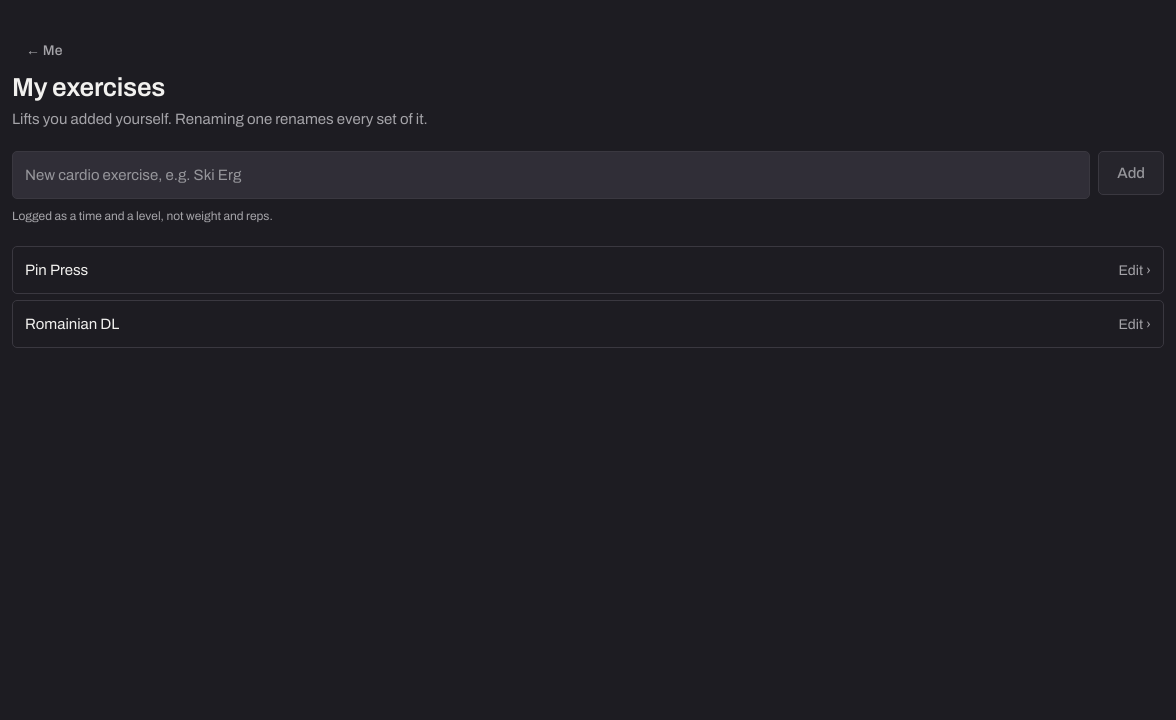
My exercises › refuses a name the library already has
Step 1. Click the button with aria-label "Edit Pin Press" → (57, 270), box [12,246,1164,294]
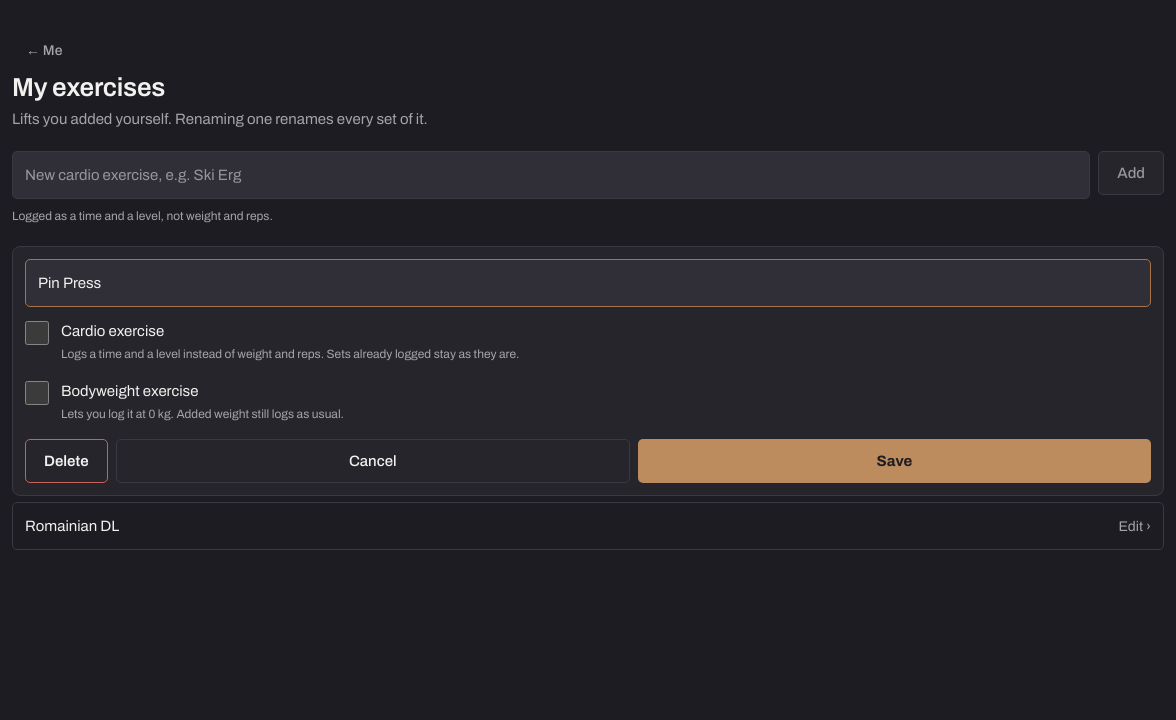
Step 2. Replace the text in the field named "Exercise name" with "squat" → (588, 283), box [25,259,1151,307]
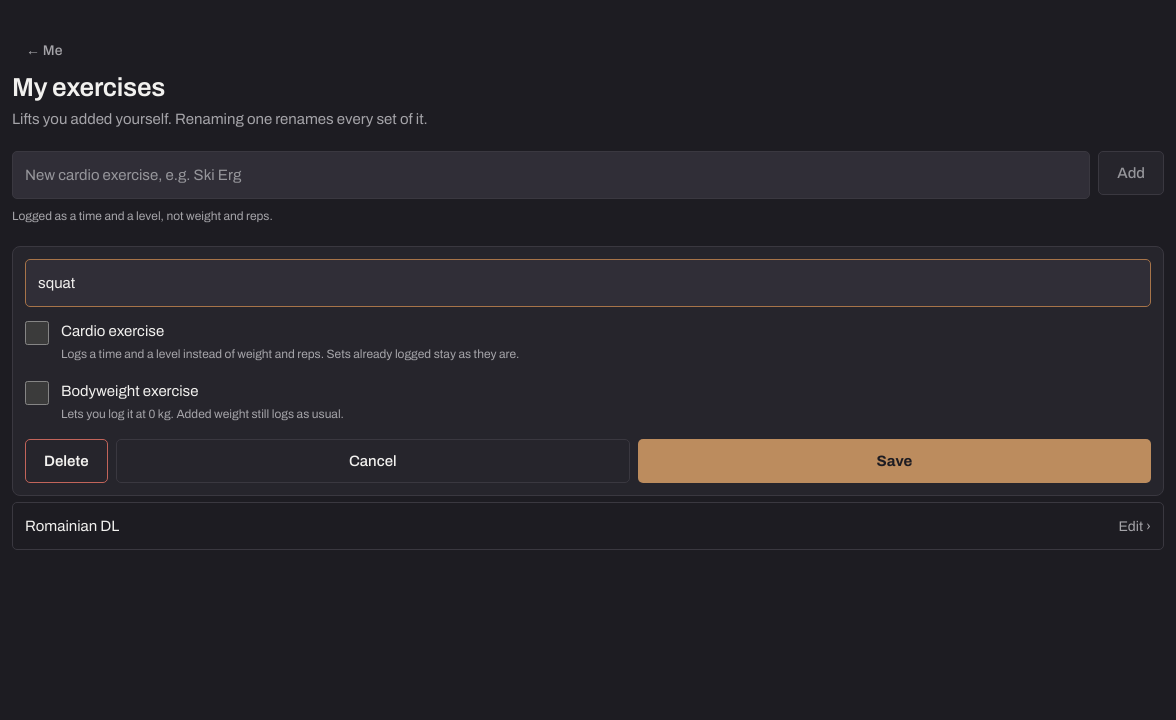
Step 3. Click the button "Save" → (894, 461), box [638,439,1151,483]
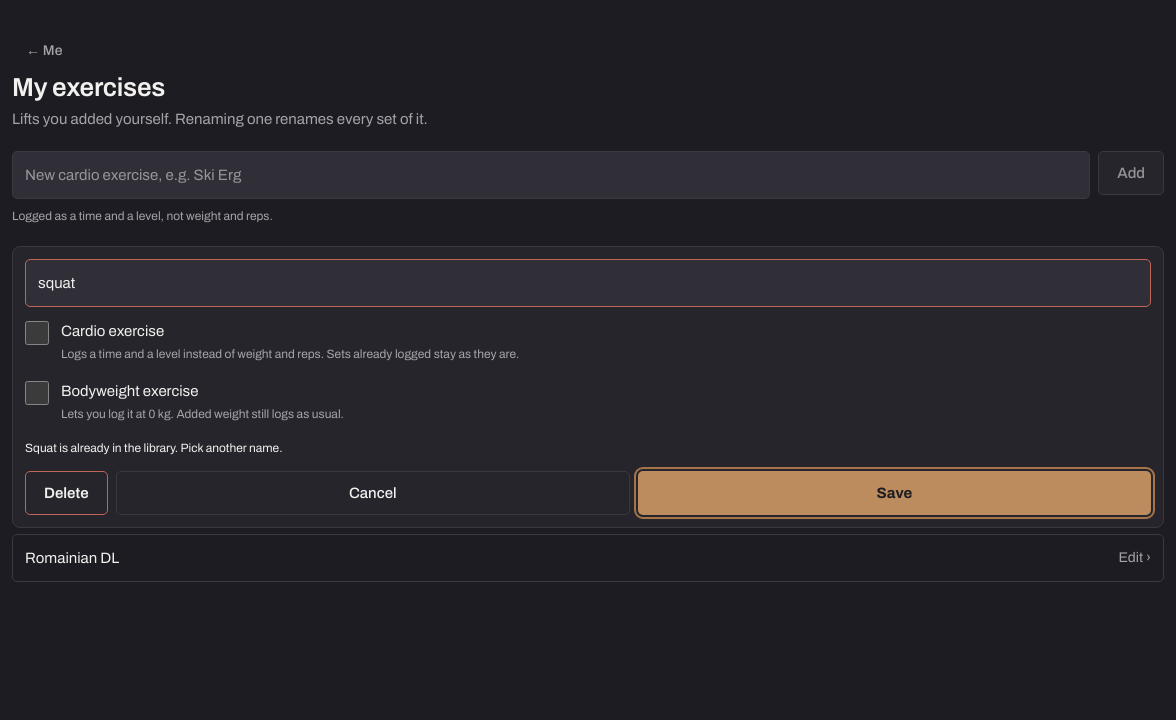
Check: the message shows "Squat is already in the library", box [25,441,282,455]
